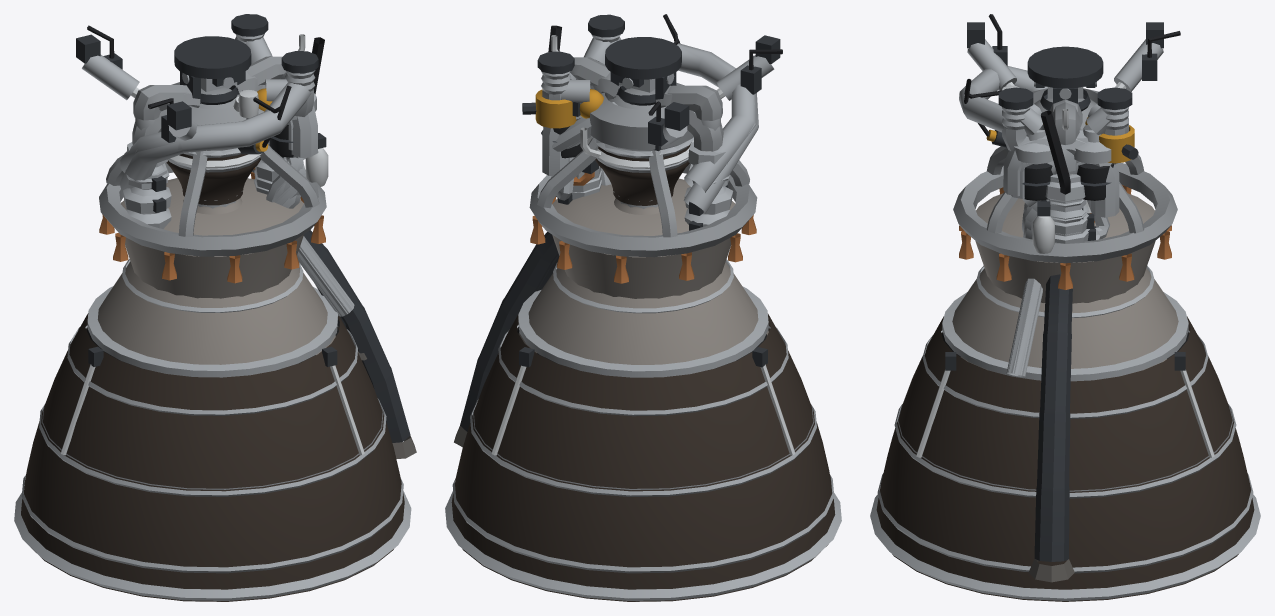
The model's file is engine_l_vac.glb.
3 renders of one model, left to right at view 1: azimuth 30°, elevation 25°; view 2: azimuth 150°, elevation 25°; view 3: azimuth 270°, elevation 25°, orthographic.
Visible parts, largest first — view 1: slot_nozzleExt__ablative, slot_contour, slot_contour__aerospike, slot_cycle__ffsc, slot_cycle__sc_fuel, slot_nozzleExt, slot_cycle, gimbal_block, actuators, slot_chamber__ablative, slot_nozzleExt__extendable, ducts (+6 smaller); view 2: slot_nozzleExt__ablative, slot_contour, slot_contour__aerospike, slot_cycle__ffsc, slot_cycle__sc_fuel, slot_nozzleExt, gimbal_block, actuators, slot_chamber__ablative, slot_cycle, slot_cycle__tapoff, slot_nozzleExt__extendable (+6 smaller); view 3: slot_nozzleExt__ablative, slot_contour__aerospike, slot_contour, slot_cycle, slot_cycle__tapoff, slot_cycle__electric, slot_nozzleExt, slot_cycle__sc, actuators, slot_cycle__ffsc, gimbal_block, ducts (+4 smaller).
Part boxes in pixels (x1,y1,x2,y2): slot_nozzleExt__ablative: (21,313,404,601); slot_contour: (87,198,337,377); slot_contour__aerospike: (99,143,326,298); slot_cycle__ffsc: (120,56,353,315); slot_cycle__sc_fuel: (119,82,354,316); slot_nozzleExt: (14,335,411,601); slot_cycle: (258,59,416,458); gimbal_block: (174,36,251,104); actuators: (76,25,197,142); slot_chamber__ablative: (166,148,260,205); slot_nozzleExt__extendable: (42,328,383,489); ducts: (231,14,318,91); slot_nozzleExt__ablative: (451,314,835,601); slot_contour: (518,198,768,377); slot_contour__aerospike: (529,137,757,298); slot_cycle__ffsc: (545,39,756,215); slot_cycle__sc_fuel: (543,60,758,230); slot_nozzleExt: (445,330,841,601); gimbal_block: (605,37,681,105); actuators: (648,35,782,151); slot_chamber__ablative: (595,137,693,205); slot_cycle: (454,91,615,447); slot_cycle__tapoff: (460,160,598,431); slot_nozzleExt__extendable: (473,328,813,490); slot_nozzleExt__ablative: (876,316,1254,601); slot_contour__aerospike: (953,146,1177,303); slot_contour: (942,265,1188,381); slot_cycle: (1002,127,1126,582); slot_cycle__tapoff: (1034,213,1094,561); slot_cycle__electric: (1014,108,1115,219); slot_nozzleExt: (870,357,1260,601); slot_cycle__sc: (1006,99,1128,376); actuators: (967,14,1180,91); slot_cycle__ffsc: (959,66,1120,375); gimbal_block: (1027,46,1103,111); ducts: (998,87,1132,129).
Size of the model in its own units: 2.44 by 2.98 by 2.29.
